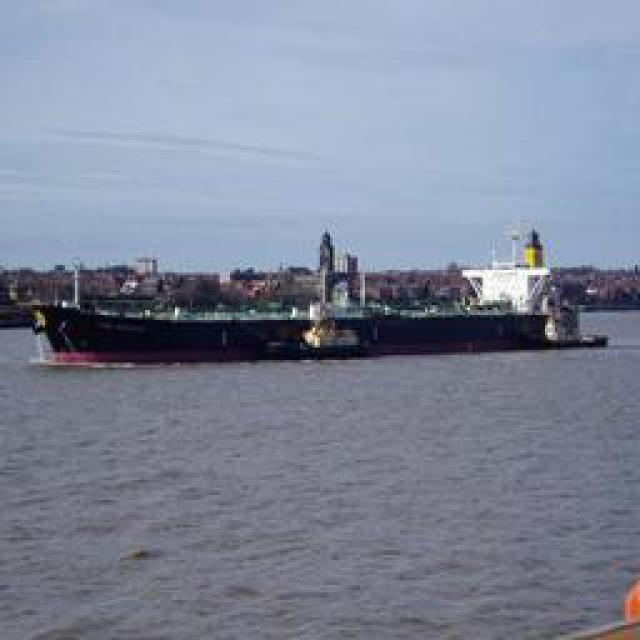Ship: (28, 231, 565, 365)
